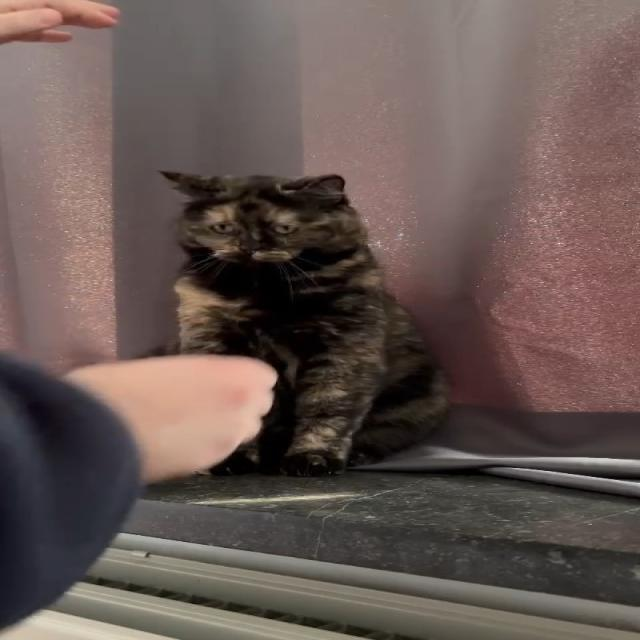authorized: (144, 169, 451, 477)
